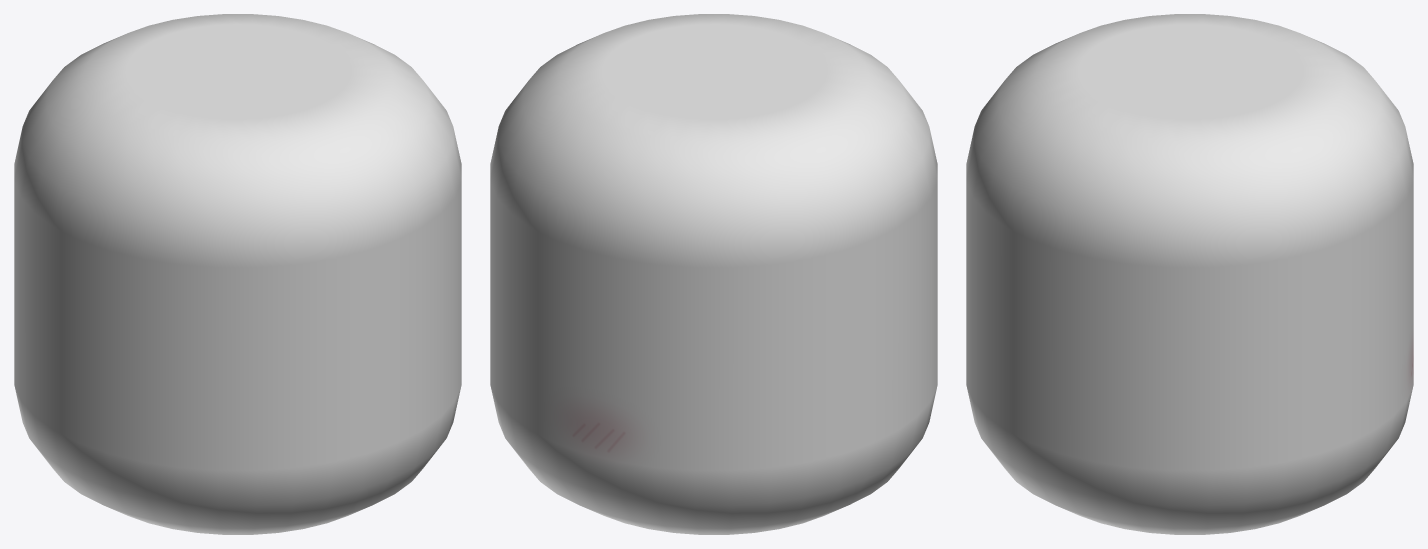
File: 29-Crying-Sad-Cute-Closed-Eyes-Anime-Chibi-full.glb
3 views of the same model, side by side, from view 1: azimuth 30°, elevation 25°; view 2: azimuth 150°, elevation 25°; view 3: azimuth 270°, elevation 25° (orthographic).
Parts seen in each view (by area): view 1: 29-Crying-Sad-Cute-Closed-Eyes-Anime-Chibi-full; view 2: 29-Crying-Sad-Cute-Closed-Eyes-Anime-Chibi-full; view 3: 29-Crying-Sad-Cute-Closed-Eyes-Anime-Chibi-full.
Boxes of the visible parts, x1,y1,x2,y2 form: 29-Crying-Sad-Cute-Closed-Eyes-Anime-Chibi-full: [14, 14, 461, 534]; 29-Crying-Sad-Cute-Closed-Eyes-Anime-Chibi-full: [490, 14, 937, 534]; 29-Crying-Sad-Cute-Closed-Eyes-Anime-Chibi-full: [966, 14, 1413, 534].
Size of the model in its own units: 1.2 by 1.2 by 1.2.
Materials: 3 (3 with a texture image).
